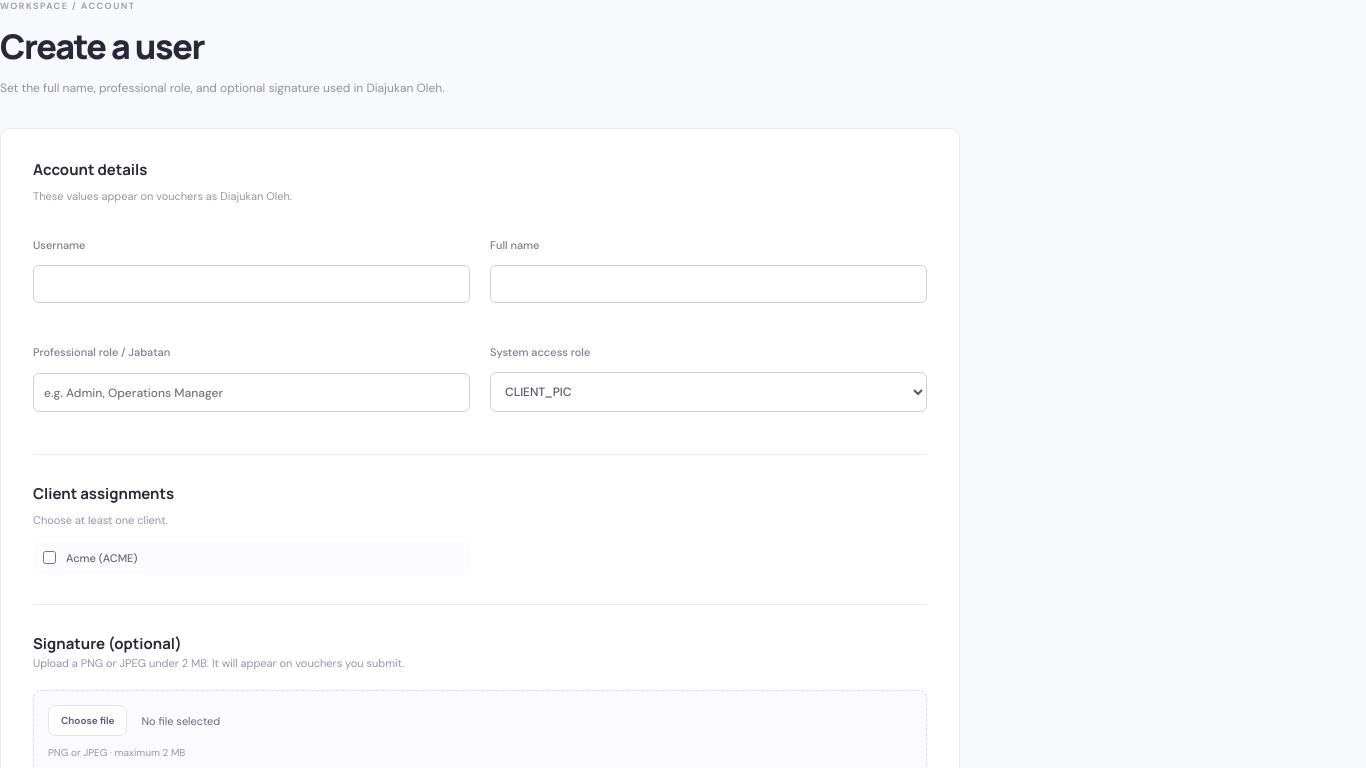
it: creates an account with separate professional and system roles and client assignments
Expected: the text "Acme (ACME)" is shown, [66,551,138,565]
Type "rina" into the field labelled "Username". click: (252, 284)
box: [33,265,470,303]
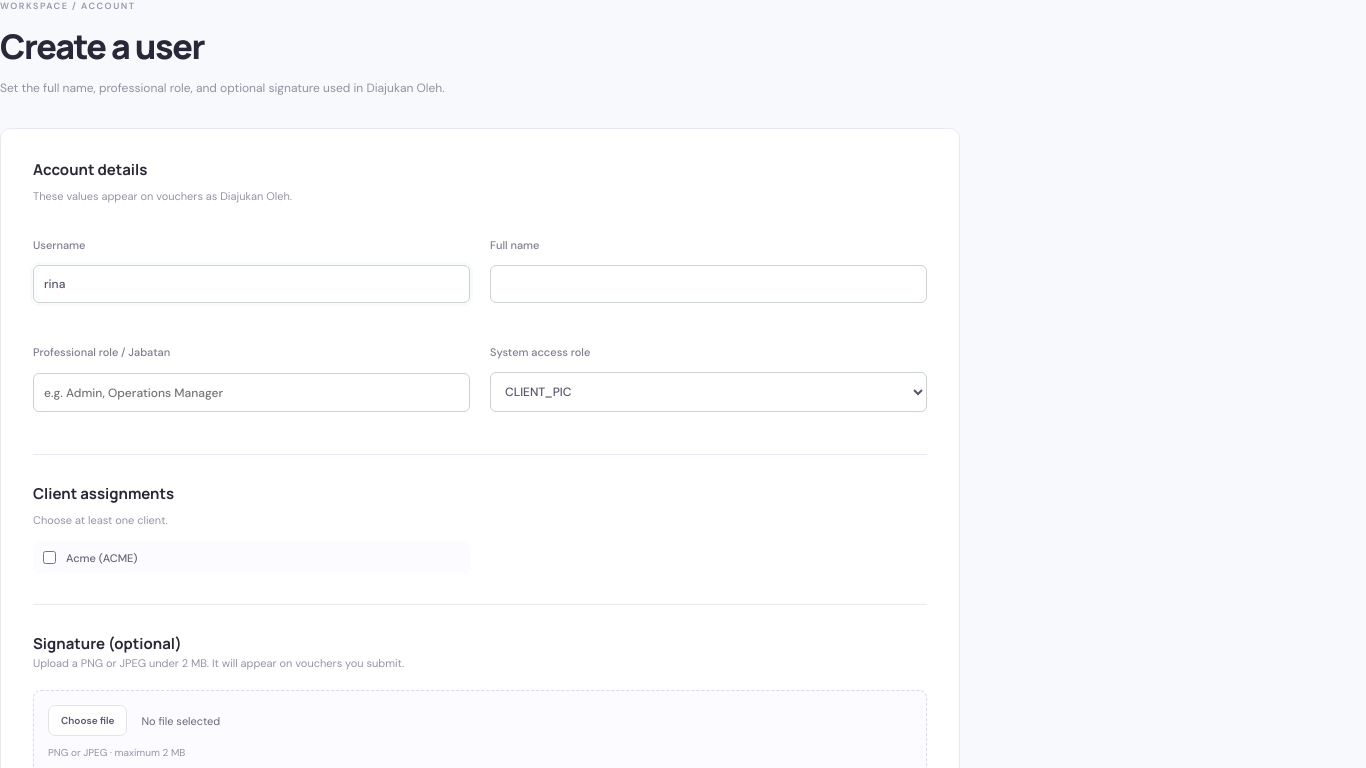
Type "Rina Setiawan" into the field labelled "Full name". click: (708, 284)
box: [490,265,927,303]
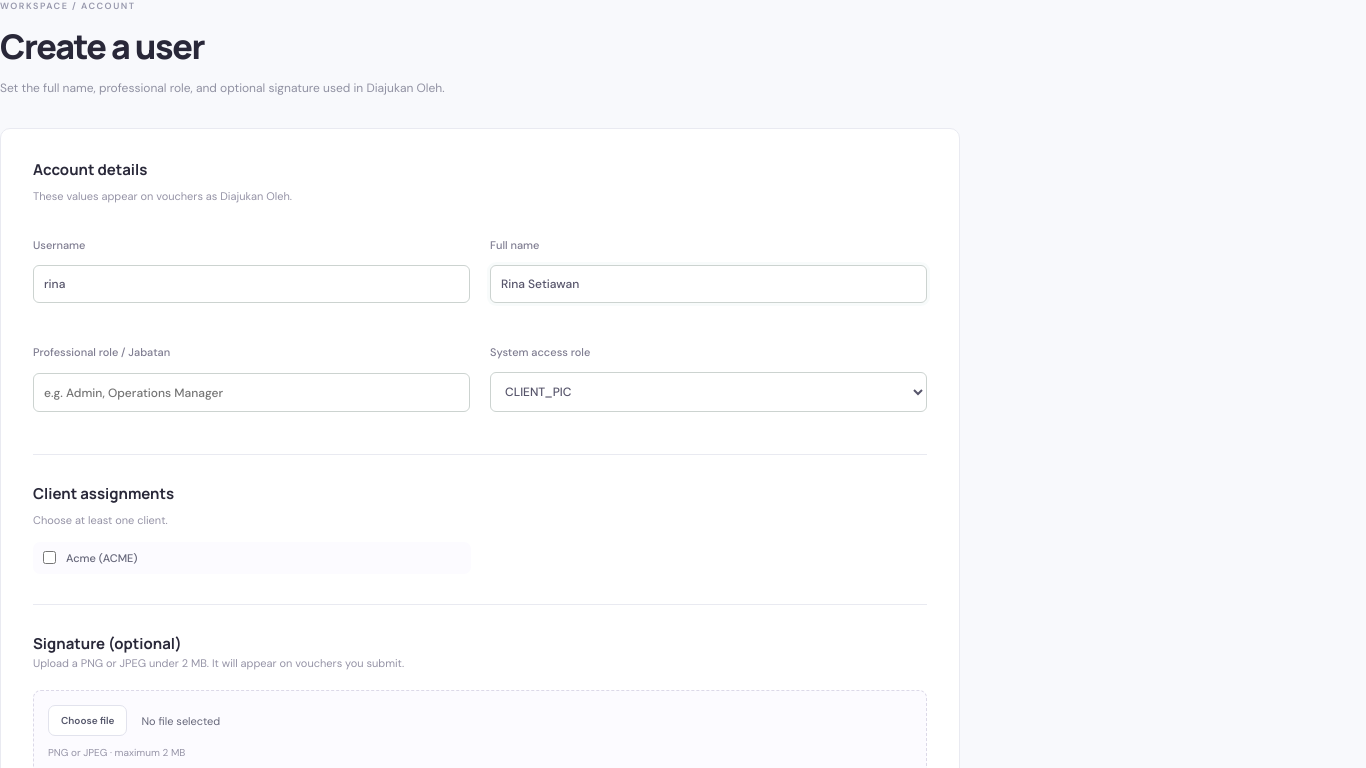
Type "Admin" into the field labelled "Professional role / Jabatan". click: (252, 393)
box: [33,373,470,412]
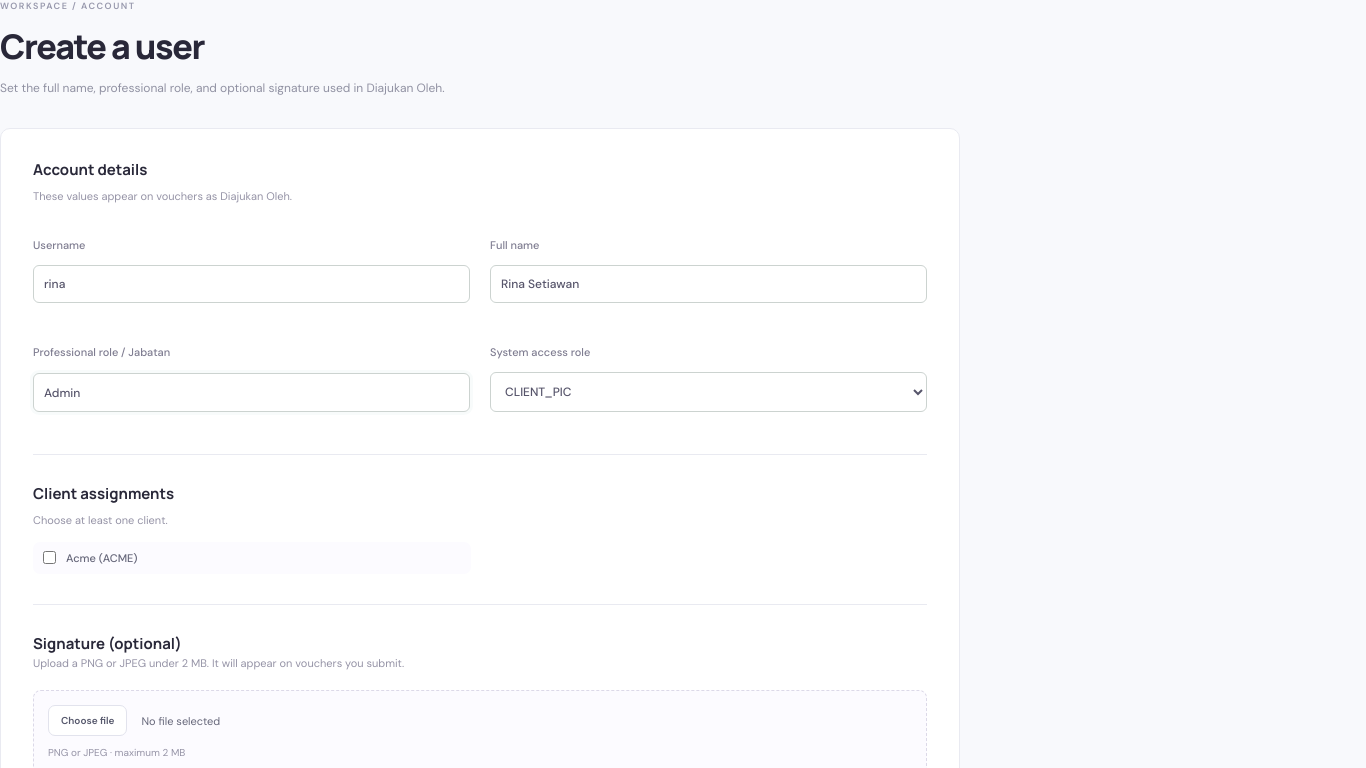
Click the checkbox. click: (50, 558)
box: [43,551,56,564]
(page scrolled)
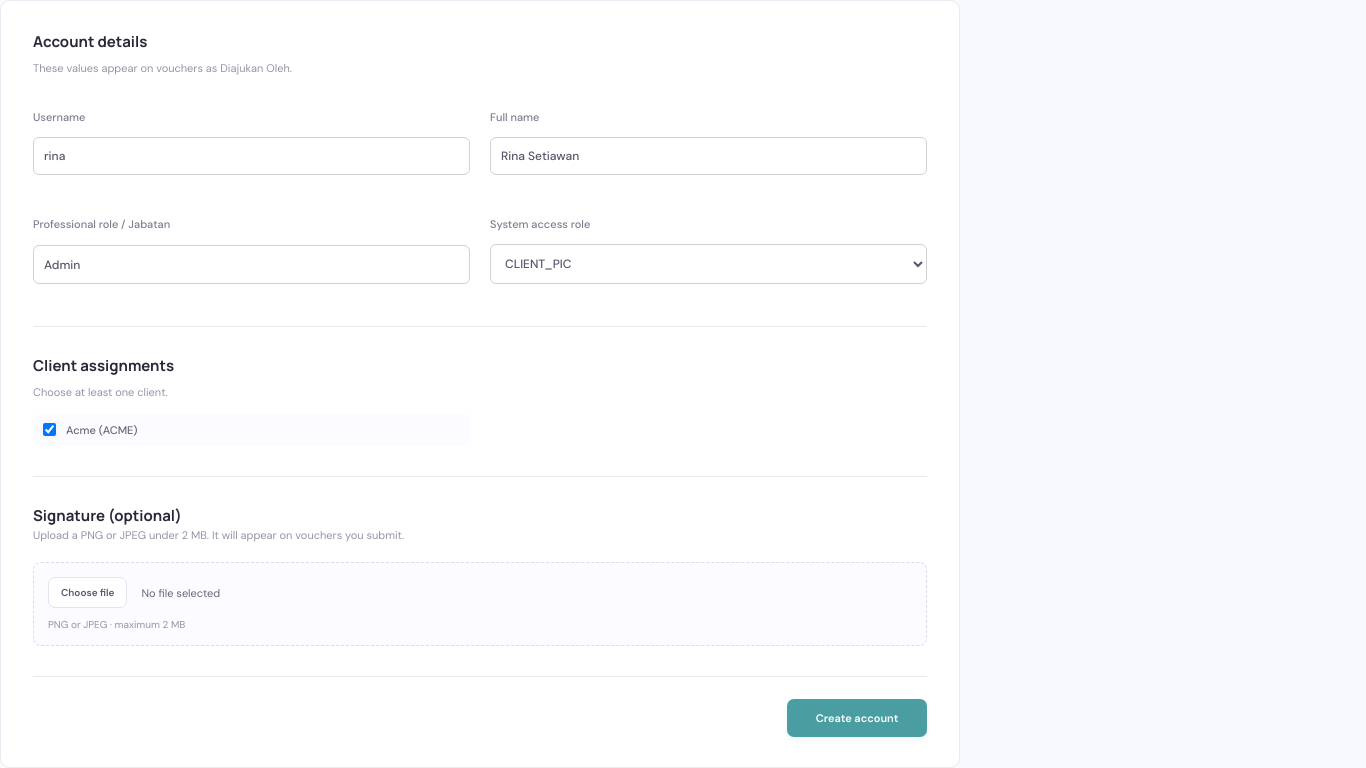
Click the button "Create account". click: (857, 718)
box: [787,700,927,738]
(page scrolled)
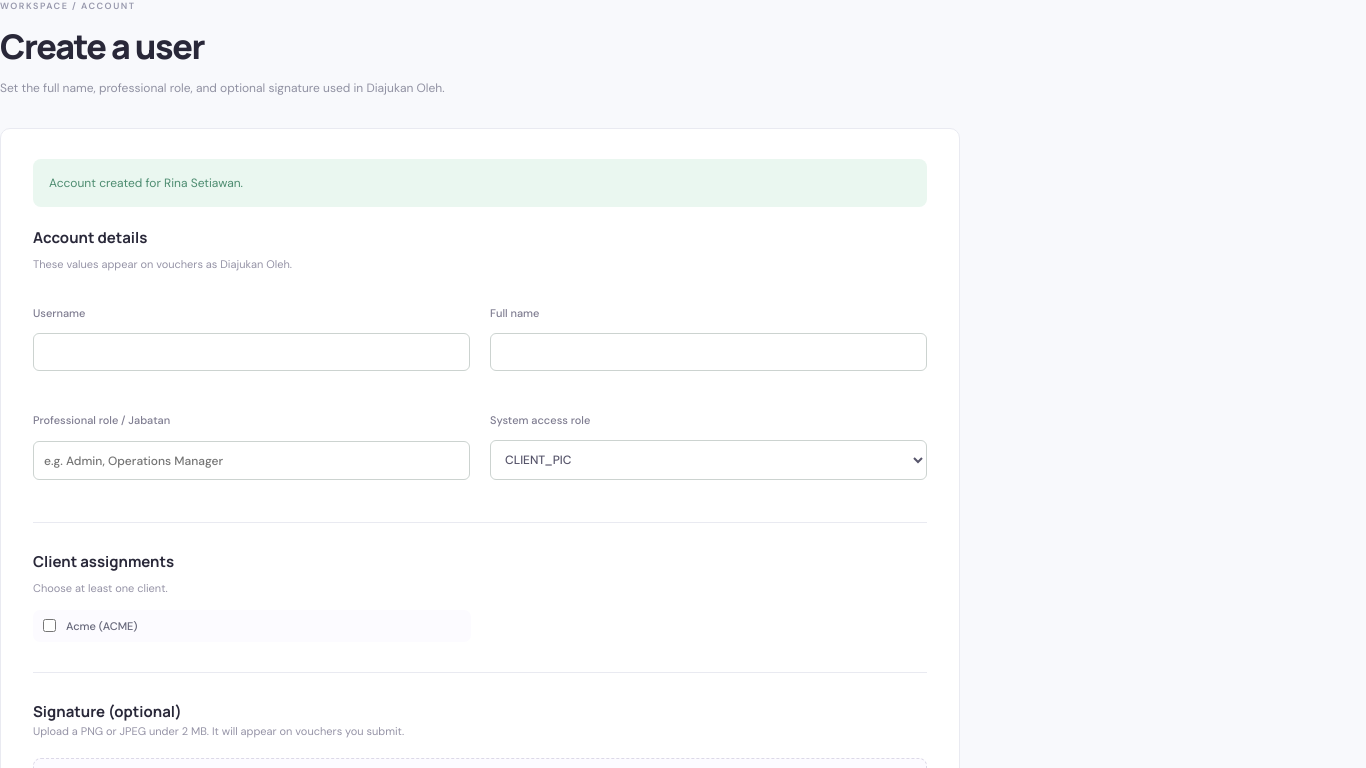
Result: the message "Account created for Rina Setiawan." is shown at [33,159,927,207]
